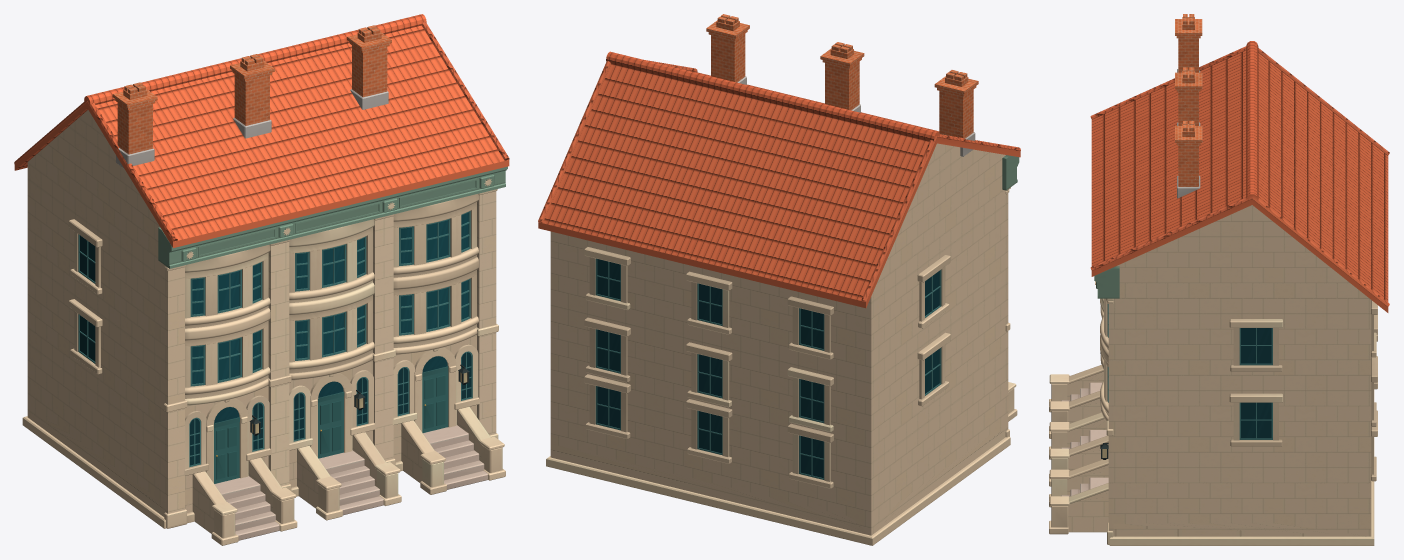
The model's file is houdini_bay_terrace.glb.
3 views of the same model, side by side, from view 1: azimuth 30°, elevation 25°; view 2: azimuth 150°, elevation 25°; view 3: azimuth 270°, elevation 25° (orthographic). The views are drawn at different scales.
Parts seen in each view (by area): view 1: LOD0; view 2: LOD0; view 3: LOD0.
Part boxes in pixels (x1=…): LOD0: x1=14, y1=14, x2=509, y2=545; LOD0: x1=538, y1=14, x2=1020, y2=545; LOD0: x1=1049, y1=14, x2=1389, y2=545.
Size of what is drawn, in the model's own units: 13.46 by 15.39 by 12.46.
Materials: 6 (6 with a texture image).
